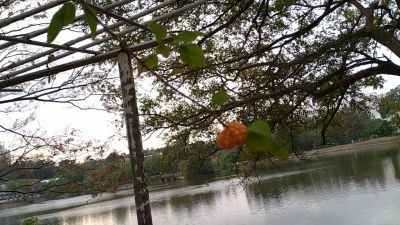eggs: (217, 119, 248, 151)
